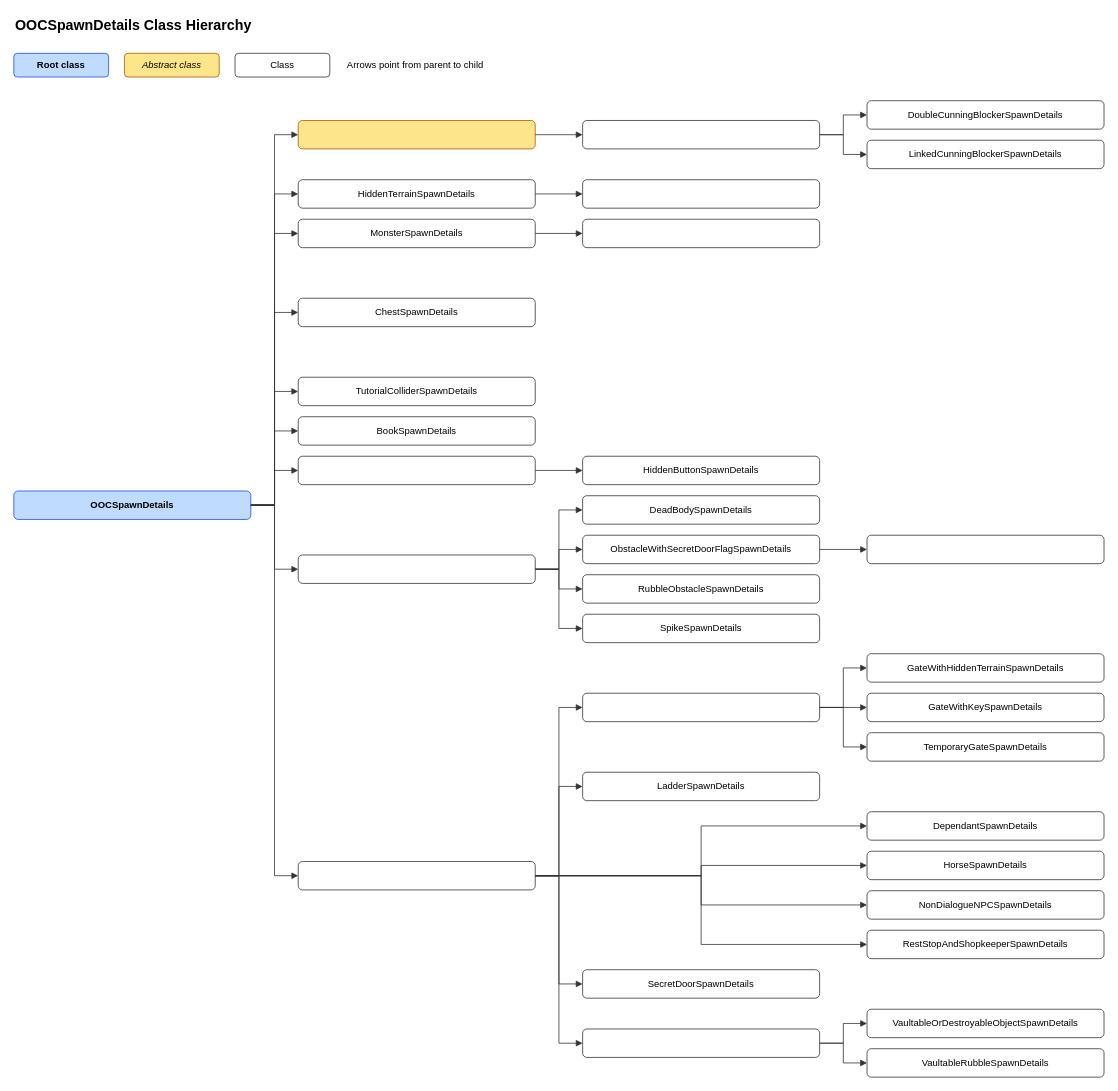
Some shapes in this 1118 by 1091 pixel diagram are drawn without their labels. Each missing label, with the centre of its shape:
ButtonSpawnDetails: the point at 416,470
CunningBlockerSpawnDetails: the point at 701,134
CunningObjectSpawnDetails: the point at 416,134
GateSpawnDetails: the point at 701,707
HostilityTerrainSpawnDetails: the point at 701,193
MovableObjectSpawnDetails: the point at 701,233
NPCSpawnDetails: the point at 416,875
ObstacleSpawnDetails: the point at 416,568
VaultableObjectSpawnDetails: the point at 701,1042
Wave: the point at 985,549
